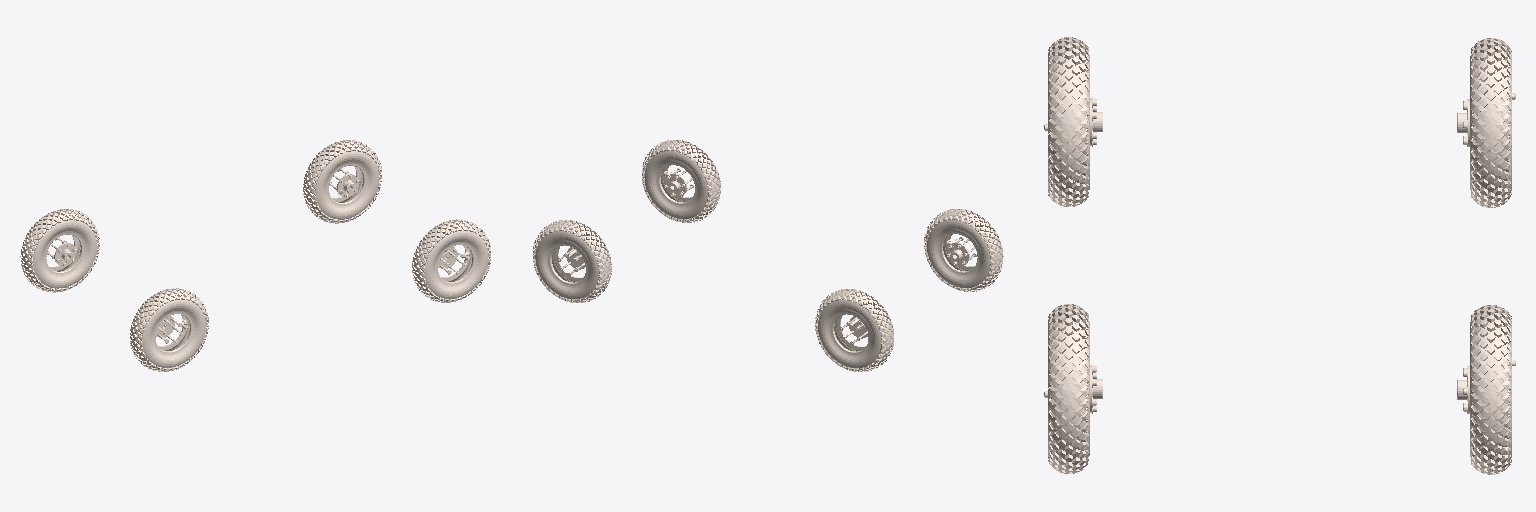
URDF robot description (ASIMOV_FINAL_2):
<?xml version="1.0" encoding="utf-8"?>
<!-- This URDF was automatically created by SolidWorks to URDF Exporter! Originally created by [author] ([email redacted]) 
     Commit Version: 1.6.0-4-g7f85cfe  Build Version: 1.6.7995.38578
     For more information, please see http://wiki.ros.org/sw_urdf_exporter -->
<robot
  name="ASIMOV_FINAL_2">
  <link
    name="base_link">
    <inertial>
      <origin
        xyz="-0.535855151648689 -0.210630038502591 0.130448083148573"
        rpy="0 0 0" />
      <mass
        value="117.071257247369" />
      <inertia
        ixx="1.32673730818558"
        ixy="6.22942728110869E-05"
        ixz="0.00254829946621228"
        iyy="0.809705166628433"
        iyz="-3.80130720440823E-05"
        izz="1.23489819344999" />
    </inertial>
    <visual>
      <origin
        xyz="0 0 0"
        rpy="0 0 0" />
      <geometry>
        <mesh
          filename="package://ASIMOV_FINAL_2/meshes/base_link.STL" />
      </geometry>
      <material
        name="">
        <color
          rgba="0.866666666666667 0.909803921568627 1 1" />
      </material>
    </visual>
    <collision>
      <origin
        xyz="0 0 0"
        rpy="0 0 0" />
      <geometry>
        <mesh
          filename="package://ASIMOV_FINAL_2/meshes/base_link.STL" />
      </geometry>
    </collision>
  </link>
  <link
    name="FL_wheel">
    <inertial>
      <origin
        xyz="-3.2273509147196E-05 -0.0240892137047773 9.72420589838707E-05"
        rpy="0 0 0" />
      <mass
        value="0.47815404513433" />
      <inertia
        ixx="0.00116052843211105"
        ixy="-1.28841356367871E-08"
        ixz="-1.89908204591265E-07"
        iyy="0.00211767810181349"
        iyz="3.85962784208534E-08"
        izz="0.00116103753976682" />
    </inertial>
    <visual>
      <origin
        xyz="0 0 0"
        rpy="0 0 0" />
      <geometry>
        <mesh
          filename="package://ASIMOV_FINAL_2/meshes/FL_wheel.STL" />
      </geometry>
      <material
        name="">
        <color
          rgba="1 0.949019607843137 0.909803921568627 1" />
      </material>
    </visual>
    <collision>
      <origin
        xyz="0 0 0"
        rpy="0 0 0" />
      <geometry>
        <mesh
          filename="package://ASIMOV_FINAL_2/meshes/FL_wheel.STL" />
      </geometry>
    </collision>
  </link>
  <joint
    name="fl-wheel"
    type="continuous">
    <origin
      xyz="-0.057013 0.063627 -0.131"
      rpy="0 0 0" />
    <parent
      link="base_link" />
    <child
      link="FL_wheel" />
    <axis
      xyz="0 1 0" />
    <limit
      effort="10"
      velocity="10" />
    <dynamics
      damping="0.1"
      friction="0.1" />
  </joint>
  <link
    name="FR_wheel">
    <inertial>
      <origin
        xyz="9.96622573418149E-05 0.0240892137947505 2.37706705375762E-05"
        rpy="0 0 0" />
      <mass
        value="0.478154045074713" />
      <inertia
        ixx="0.00116106640130735"
        ixy="-3.9580828166295E-08"
        ixz="1.43318405792121E-07"
        iyy="0.00211767811981765"
        iyz="-9.37490473170902E-09"
        izz="0.00116049957641766" />
    </inertial>
    <visual>
      <origin
        xyz="0 0 0"
        rpy="0 0 0" />
      <geometry>
        <mesh
          filename="package://ASIMOV_FINAL_2/meshes/FR_wheel.STL" />
      </geometry>
      <material
        name="">
        <color
          rgba="1 0.949019607843137 0.909803921568627 1" />
      </material>
    </visual>
    <collision>
      <origin
        xyz="0 0 0"
        rpy="0 0 0" />
      <geometry>
        <mesh
          filename="package://ASIMOV_FINAL_2/meshes/FR_wheel.STL" />
      </geometry>
    </collision>
  </link>
  <joint
    name="fr-wheel"
    type="continuous">
    <origin
      xyz="-0.057013 -0.48363 -0.13"
      rpy="0 0 0" />
    <parent
      link="base_link" />
    <child
      link="FR_wheel" />
    <axis
      xyz="0 1 0" />
    <limit
      effort="10"
      velocity="10" />
    <dynamics
      damping="0.1"
      friction="0.1" />
  </joint>
  <link
    name="RR_wheel">
    <inertial>
      <origin
        xyz="9.96622573420369E-05 0.0240892137947505 2.37706705374652E-05"
        rpy="0 0 0" />
      <mass
        value="0.478154045074714" />
      <inertia
        ixx="0.00116106640130736"
        ixy="-3.95808281657491E-08"
        ixz="1.43318405800204E-07"
        iyy="0.00211767811981766"
        iyz="-9.37490472959415E-09"
        izz="0.00116049957641766" />
    </inertial>
    <visual>
      <origin
        xyz="0 0 0"
        rpy="0 0 0" />
      <geometry>
        <mesh
          filename="package://ASIMOV_FINAL_2/meshes/RR_wheel.STL" />
      </geometry>
      <material
        name="">
        <color
          rgba="1 0.949019607843137 0.909803921568627 1" />
      </material>
    </visual>
    <collision>
      <origin
        xyz="0 0 0"
        rpy="0 0 0" />
      <geometry>
        <mesh
          filename="package://ASIMOV_FINAL_2/meshes/RR_wheel.STL" />
      </geometry>
    </collision>
  </link>
  <joint
    name="rr-wheel"
    type="continuous">
    <origin
      xyz="-0.80601 -0.48363 -0.13"
      rpy="0 0 0" />
    <parent
      link="base_link" />
    <child
      link="RR_wheel" />
    <axis
      xyz="0 1 0" />
    <limit
      effort="10"
      velocity="10" />
    <dynamics
      damping="0.1"
      friction="0.1" />
  </joint>
  <link
    name="RL_wheel">
    <inertial>
      <origin
        xyz="-3.22735091469184E-05 -0.0240892137047771 9.72420589836764E-05"
        rpy="0 0 0" />
      <mass
        value="0.478154045134329" />
      <inertia
        ixx="0.00116052843211105"
        ixy="-1.288413563753E-08"
        ixz="-1.89908204595265E-07"
        iyy="0.00211767810181349"
        iyz="3.85962784215217E-08"
        izz="0.00116103753976682" />
    </inertial>
    <visual>
      <origin
        xyz="0 0 0"
        rpy="0 0 0" />
      <geometry>
        <mesh
          filename="package://ASIMOV_FINAL_2/meshes/RL_wheel.STL" />
      </geometry>
      <material
        name="">
        <color
          rgba="1 0.949019607843137 0.909803921568627 1" />
      </material>
    </visual>
    <collision>
      <origin
        xyz="0 0 0"
        rpy="0 0 0" />
      <geometry>
        <mesh
          filename="package://ASIMOV_FINAL_2/meshes/RL_wheel.STL" />
      </geometry>
    </collision>
  </link>
  <joint
    name="rl-wheel"
    type="continuous">
    <origin
      xyz="-0.80601 0.063627 -0.131"
      rpy="0 0 0" />
    <parent
      link="base_link" />
    <child
      link="RL_wheel" />
    <axis
      xyz="0 1 0" />
    <limit
      effort="10"
      velocity="10" />
    <dynamics
      damping="0.1"
      friction="0.1" />
  </joint>
</robot>

--- Facts derived from the render (not from the file) ---
3 views of the same robot in one strip: view 1: azimuth 30°, elevation 25°; view 2: azimuth 150°, elevation 25°; view 3: azimuth 270°, elevation 25° (orthographic).
Model ASIMOV_FINAL_2 with 5 links and 4 joints (4 continuous), rooted at base_link, posed every joint at zero.
Links seen in each view (by area): view 1: RR_wheel, FR_wheel, RL_wheel, FL_wheel; view 2: RR_wheel, FR_wheel, FL_wheel, RL_wheel; view 3: RR_wheel, FR_wheel, RL_wheel, FL_wheel.
Link boxes in pixels (left/top/right/bottom): RR_wheel: left=130, top=288, right=208, bottom=371; FR_wheel: left=412, top=219, right=490, bottom=302; RL_wheel: left=20, top=209, right=99, bottom=292; FL_wheel: left=303, top=140, right=381, bottom=223; RR_wheel: left=924, top=209, right=1003, bottom=291; FR_wheel: left=642, top=140, right=720, bottom=222; FL_wheel: left=532, top=220, right=611, bottom=302; RL_wheel: left=815, top=289, right=893, bottom=371; RR_wheel: left=1044, top=37, right=1102, bottom=206; FR_wheel: left=1044, top=304, right=1102, bottom=473; RL_wheel: left=1457, top=38, right=1515, bottom=207; FL_wheel: left=1457, top=305, right=1515, bottom=474.
Size in the robot's own frame: 0.9512 by 0.5589 by 0.2031 metres.
Meshes: 5 distinct files referenced, 4 mesh visuals loaded (4 binary STL); not drawn: 1 (reference not matched to a file when rendering).
